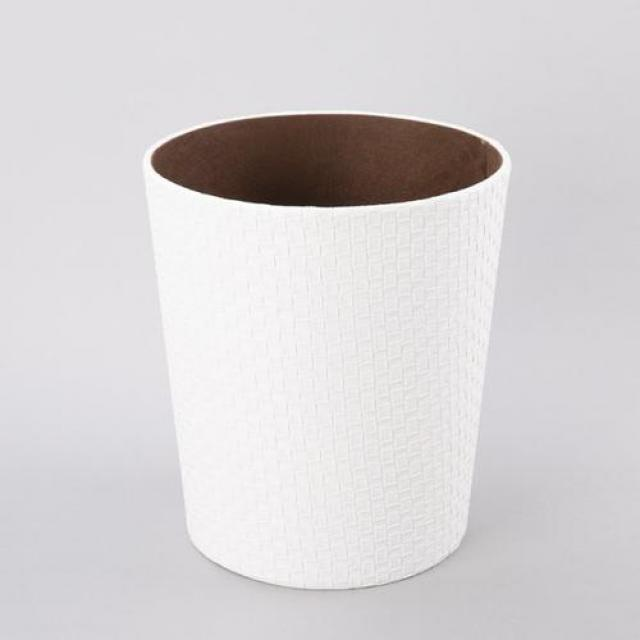Dustbin: (136, 104, 514, 596)
